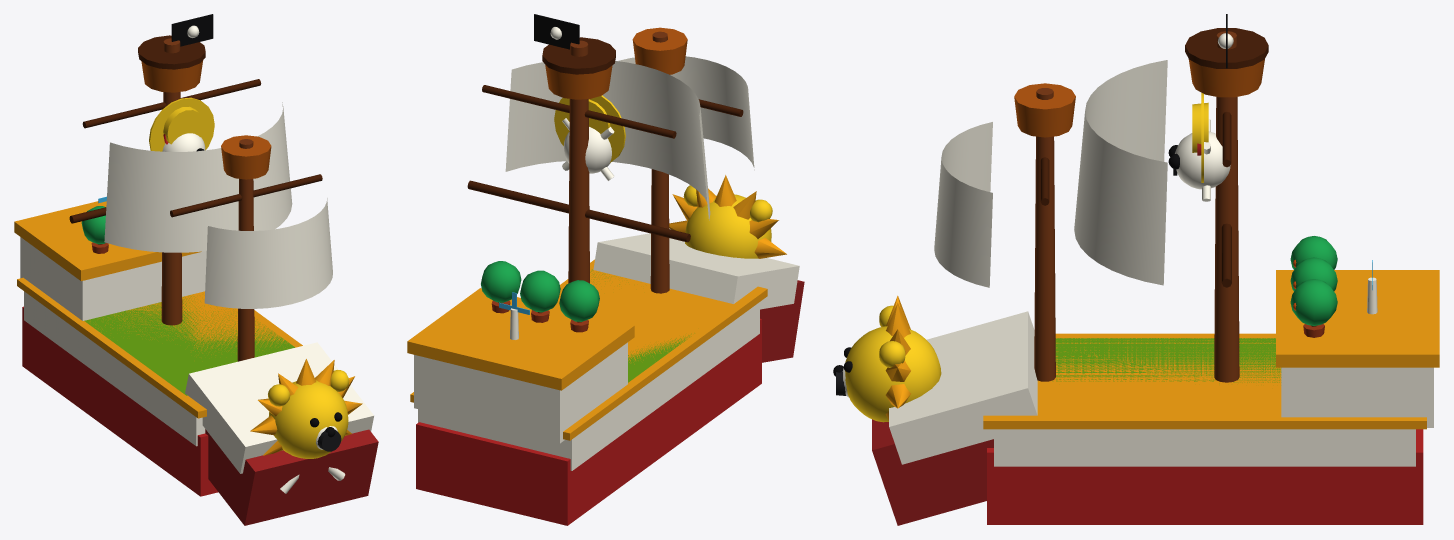
File: thousand_sunny.glb
3 views of the same model, side by side, from view 1: azimuth 30°, elevation 25°; view 2: azimuth 150°, elevation 25°; view 3: azimuth 270°, elevation 25° (orthographic). The views are drawn at different scales.
Parts seen in each view (by area): view 1: ThousandSunny; view 2: ThousandSunny; view 3: ThousandSunny.
Boxes of the visible parts, bbox=[...] form: ThousandSunny: bbox=[14, 14, 378, 525]; ThousandSunny: bbox=[407, 14, 804, 525]; ThousandSunny: bbox=[833, 14, 1439, 525].
Bounding box in the file's own units: 7.8 × 14.42 × 16.67.
